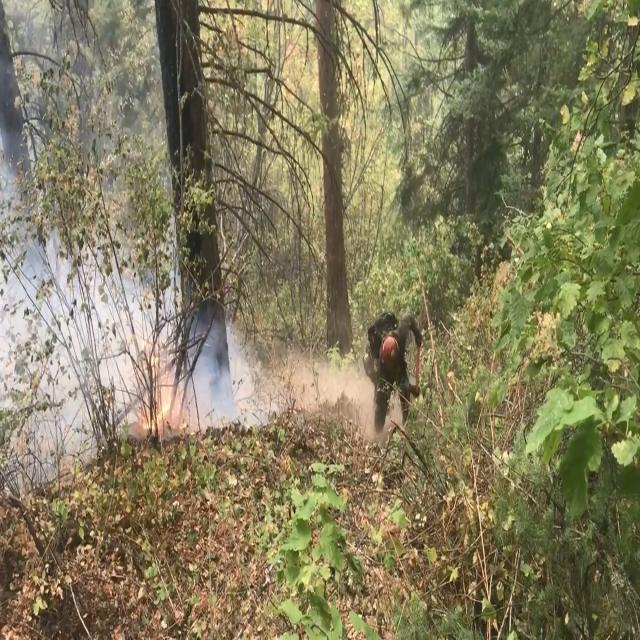Fire: (128, 359, 184, 442)
